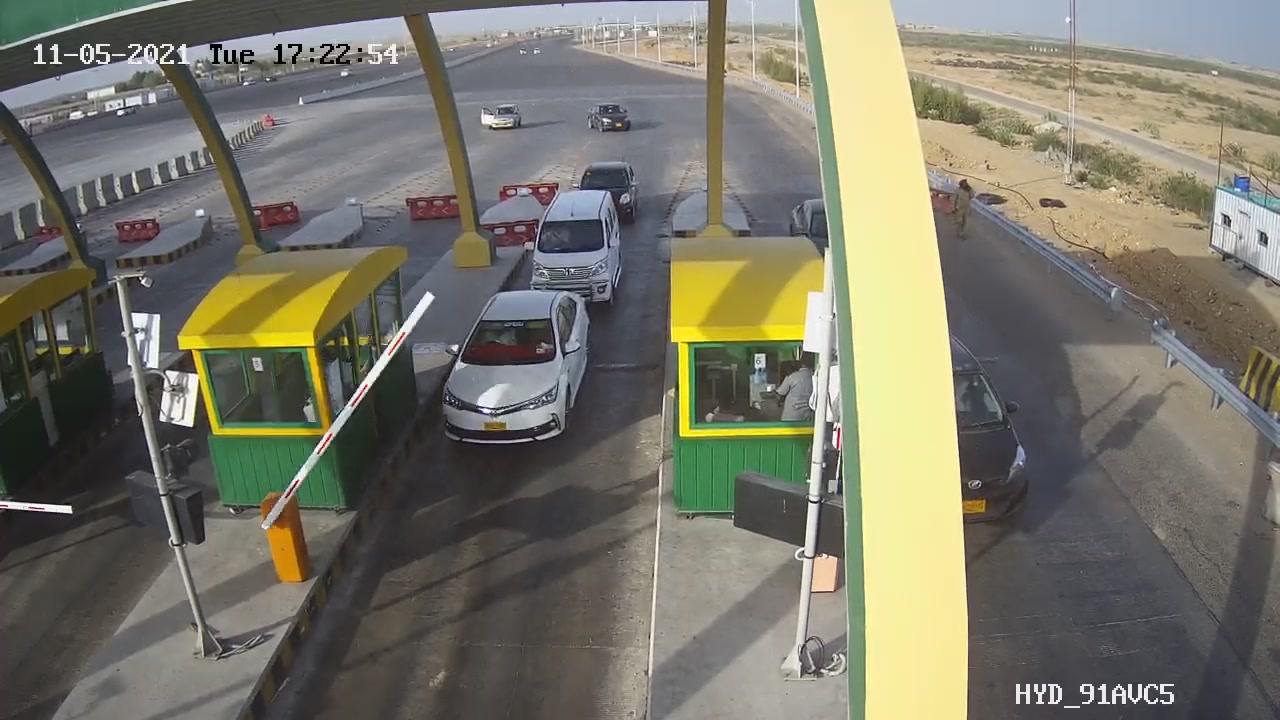F1: (422, 278, 613, 457)
